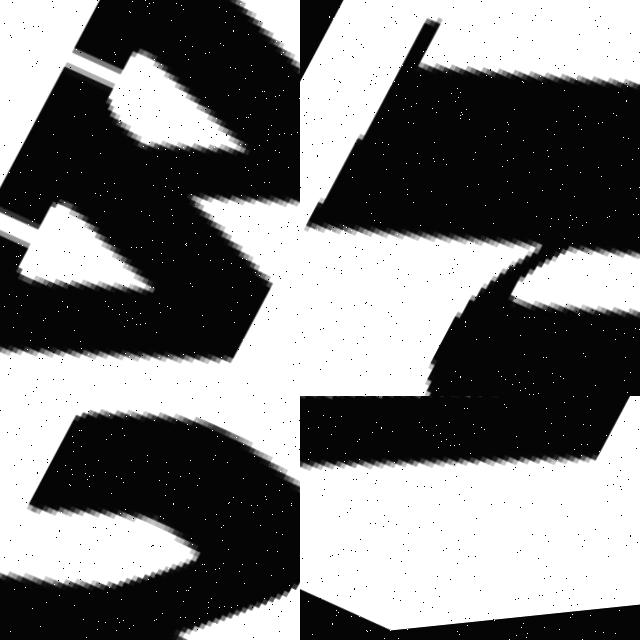B: (305, 19, 640, 396)
W: (0, 0, 300, 396), (300, 396, 640, 640), (0, 396, 300, 640)
